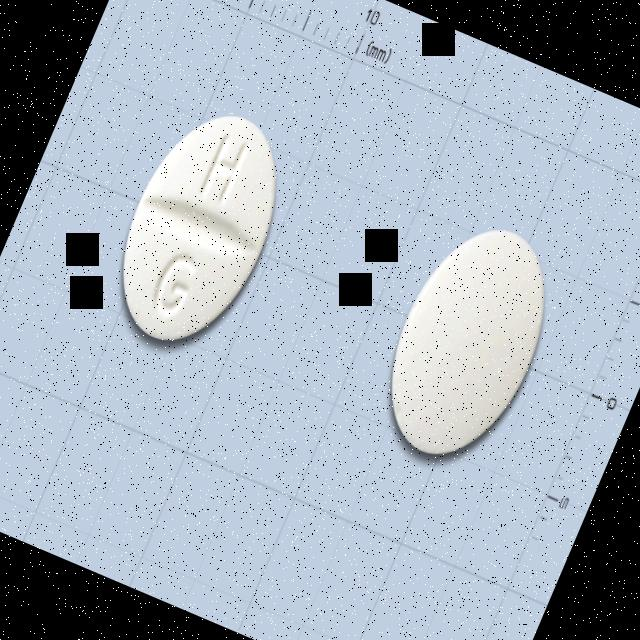Cipoxcin: (83, 84, 315, 377)
